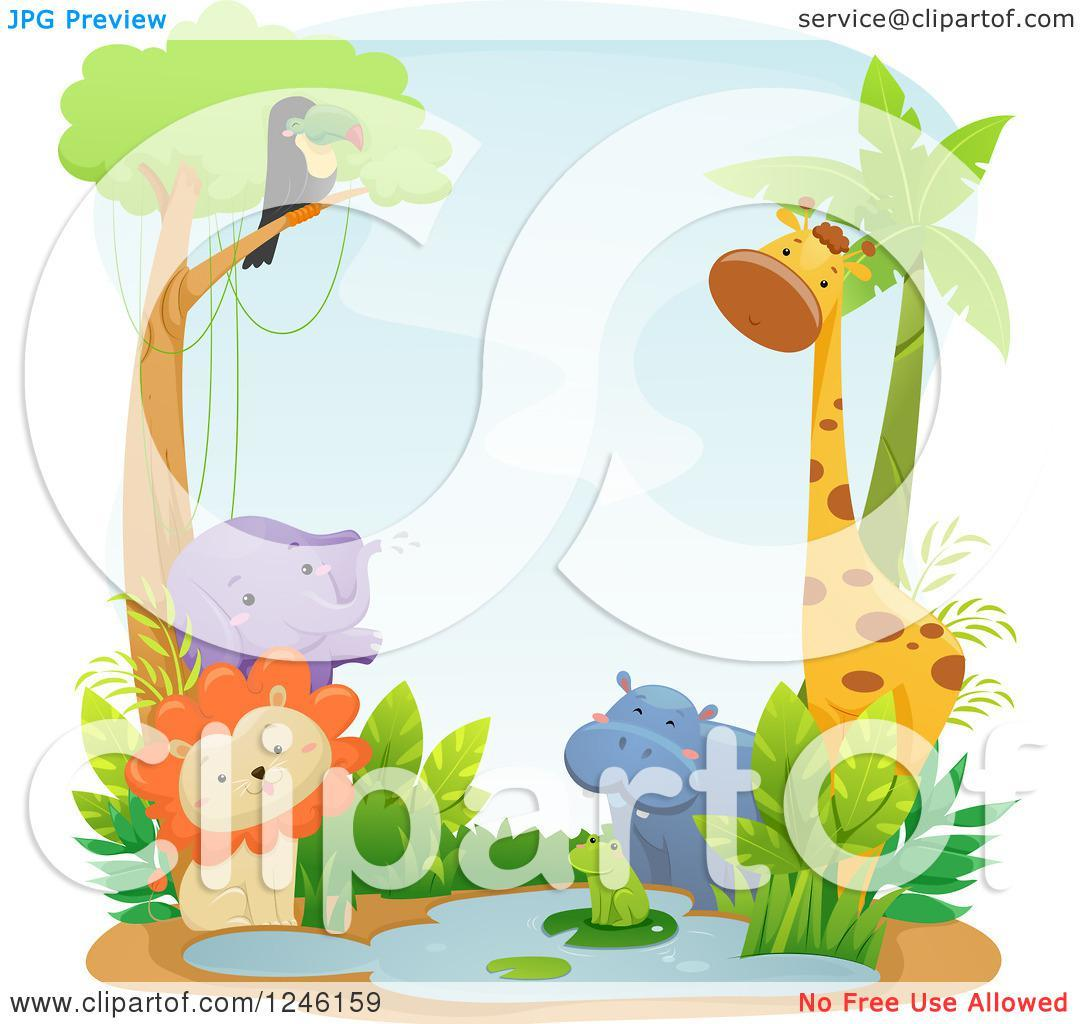bird: (239, 95, 374, 270)
